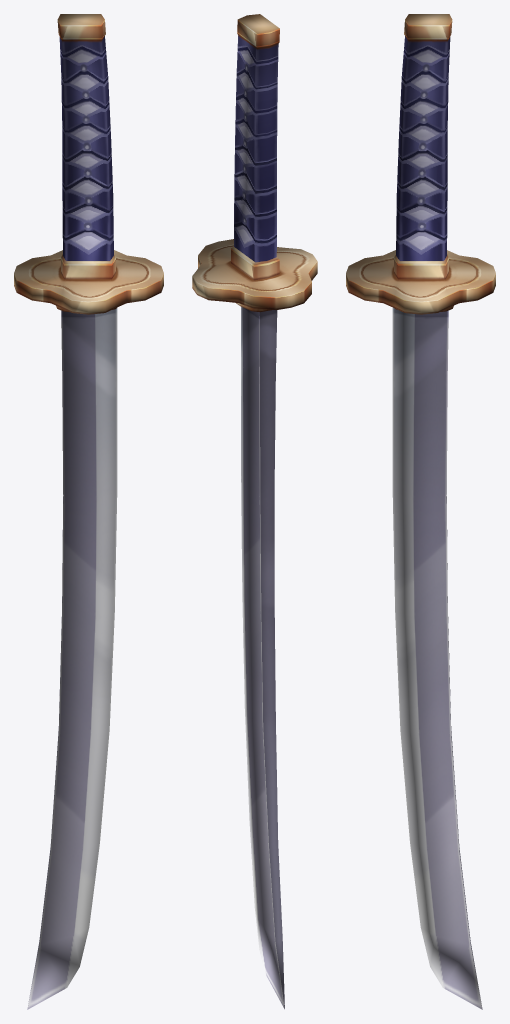
File: Weapon_katana02_srowd.fbx
The picture shows the model from 3 angles, left to right: view 1: azimuth 90°, elevation 25°; view 2: azimuth 210°, elevation 25°; view 3: azimuth 270°, elevation 25°; orthographic projection. The views are drawn at different scales.
Parts seen in each view (by area): view 1: Weapon_katana02_srowd; view 2: Weapon_katana02_srowd; view 3: Weapon_katana02_srowd.
Part boxes in pixels (<box>): Weapon_katana02_srowd: <box>14,14,163,1009</box>; Weapon_katana02_srowd: <box>192,14,317,1009</box>; Weapon_katana02_srowd: <box>346,14,495,1009</box>.
Size of the model in its own units: 17.82 by 143 by 19.53.
